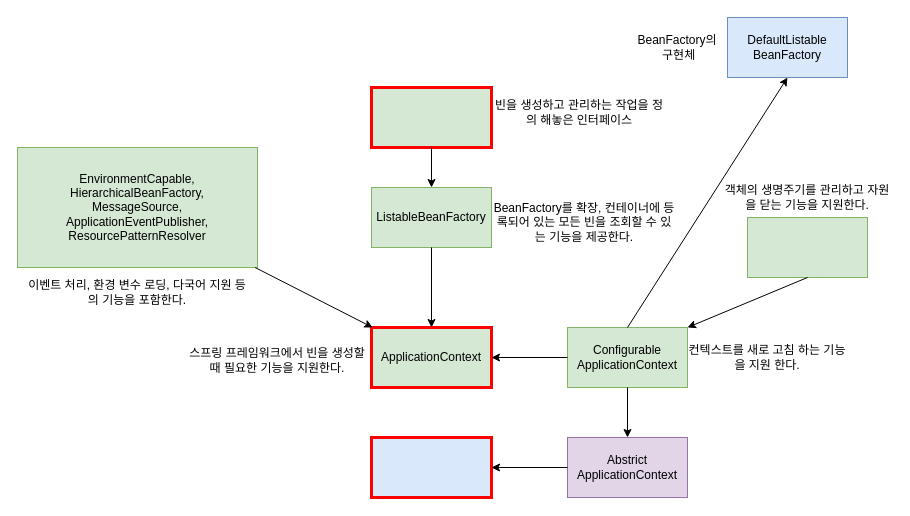
The diagram is 910 pixels wide and 516 high, and some of its shapes have lost their labels. The centre of each missing label's shape, as x and y in pixels:
"BeanFactory" goes at [431,117].
"Generic ApplicationContext" goes at [431,467].
"Lifecycle, Closeable" goes at [807,247].
